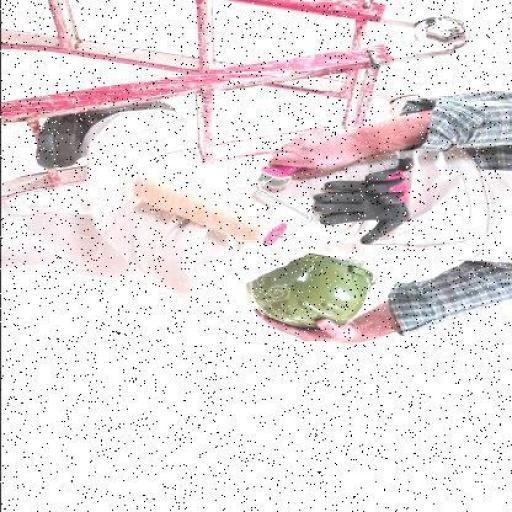safety_shoe: (28, 93, 182, 168)
